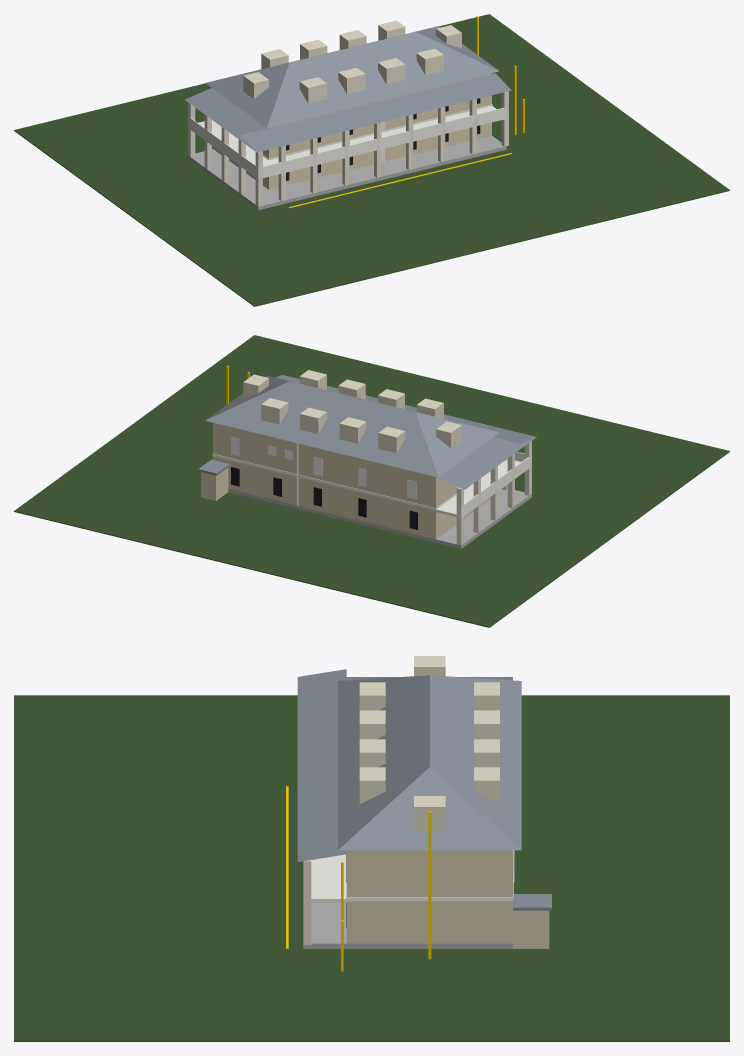
Rendered from new_river_inn.obj.
The picture shows the model from 3 angles, top to bottom: view 1: azimuth 30°, elevation 25°; view 2: azimuth 150°, elevation 25°; view 3: azimuth 270°, elevation 25°; orthographic projection. The views are drawn at different scales.
Parts seen in each view (by area): view 1: Ground, Main_Roof, Veranda_Roof_East, Plinth_Porch_Floor, Main_Block_Walls, Balustrade_East, Veranda_Deck_2nd_Floor_East, Veranda_Roof_South, Balustrade_South, Veranda_Deck_2nd_Floor_South, Dormer_East_2, Dormer_East_1 (+3 smaller); view 2: Ground, Main_Block_Walls, Main_Roof, Plinth_Porch_Floor, Veranda_Roof_South, Veranda_Roof_East, Belt_Course_2nd_Floor, Veranda_Deck_2nd_Floor_South, Annex_NW_One_Storey, Balustrade_South, Dormer_West_2, Dormer_West_4 (+3 smaller); view 3: Ground, Main_Roof, Main_Block_Walls, Veranda_Roof_East, Plinth_Porch_Floor, Veranda_Deck_2nd_Floor_East, Annex_NW_One_Storey, Dormer_North, Belt_Course_2nd_Floor, Dormer_East_4, Dormer_West_4, Dormer_East_2 (+8 smaller).
Boxes of the visible parts, x1=… form: Ground: x1=14, y1=14, x2=729, y2=306; Main_Roof: x1=205, y1=26, x2=499, y2=127; Veranda_Roof_East: x1=241, y1=73, x2=511, y2=152; Plinth_Porch_Floor: x1=188, y1=135, x2=506, y2=210; Main_Block_Walls: x1=213, y1=73, x2=491, y2=189; Balustrade_East: x1=258, y1=107, x2=506, y2=176; Veranda_Deck_2nd_Floor_East: x1=243, y1=106, x2=506, y2=179; Veranda_Roof_South: x1=185, y1=88, x2=268, y2=151; Balustrade_South: x1=188, y1=117, x2=258, y2=176; Veranda_Deck_2nd_Floor_South: x1=188, y1=120, x2=267, y2=168; Dormer_East_2: x1=338, y1=67, x2=365, y2=94; Dormer_East_1: x1=299, y1=77, x2=326, y2=103; Ground: x1=14, y1=335, x2=729, y2=627; Main_Block_Walls: x1=213, y1=422, x2=490, y2=539; Main_Roof: x1=205, y1=375, x2=499, y2=477; Plinth_Porch_Floor: x1=228, y1=489, x2=531, y2=548; Veranda_Roof_South: x1=436, y1=437, x2=536, y2=489; Veranda_Roof_East: x1=276, y1=375, x2=536, y2=443; Belt_Course_2nd_Floor: x1=212, y1=453, x2=456, y2=510; Veranda_Deck_2nd_Floor_South: x1=436, y1=470, x2=517, y2=518; Annex_NW_One_Storey: x1=201, y1=468, x2=228, y2=500; Balustrade_South: x1=460, y1=455, x2=531, y2=515; Dormer_West_2: x1=339, y1=417, x2=366, y2=443; Dormer_West_4: x1=261, y1=398, x2=288, y2=424; Ground: x1=14, y1=695, x2=729, y2=1041; Main_Roof: x1=338, y1=675, x2=521, y2=850; Main_Block_Walls: x1=346, y1=850, x2=512, y2=943; Veranda_Roof_East: x1=297, y1=669, x2=346, y2=861; Plinth_Porch_Floor: x1=303, y1=903, x2=512, y2=948; Veranda_Deck_2nd_Floor_East: x1=311, y1=854, x2=346, y2=902; Annex_NW_One_Storey: x1=513, y1=910, x2=549, y2=948; Dormer_North: x1=414, y1=796, x2=445, y2=830; Belt_Course_2nd_Floor: x1=346, y1=850, x2=513, y2=901; Dormer_East_4: x1=359, y1=767, x2=385, y2=803; Dormer_West_4: x1=474, y1=767, x2=499, y2=803; Dormer_East_2: x1=359, y1=710, x2=385, y2=739.
Size of the model in its own units: 56.5 by 11.3 by 49.5.
